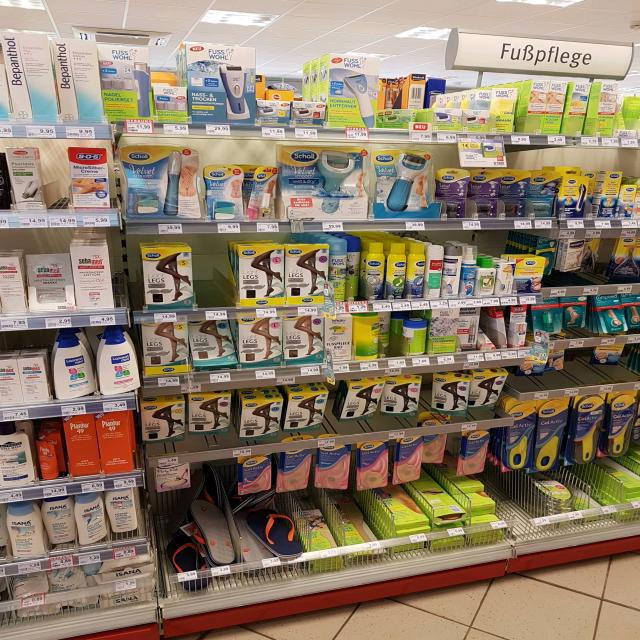empty: (495, 453, 541, 540), (195, 238, 240, 312), (40, 148, 72, 217)
